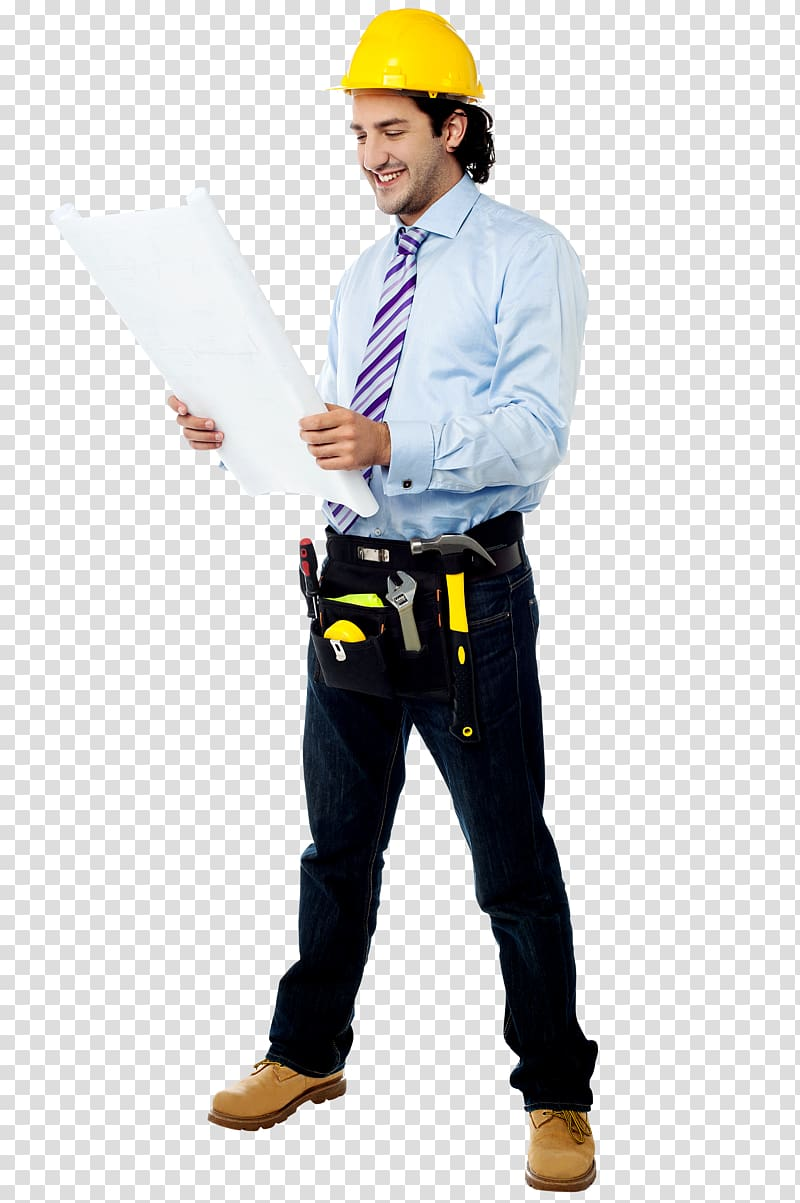Person_wearing_helmet: (337, 1, 497, 145)
